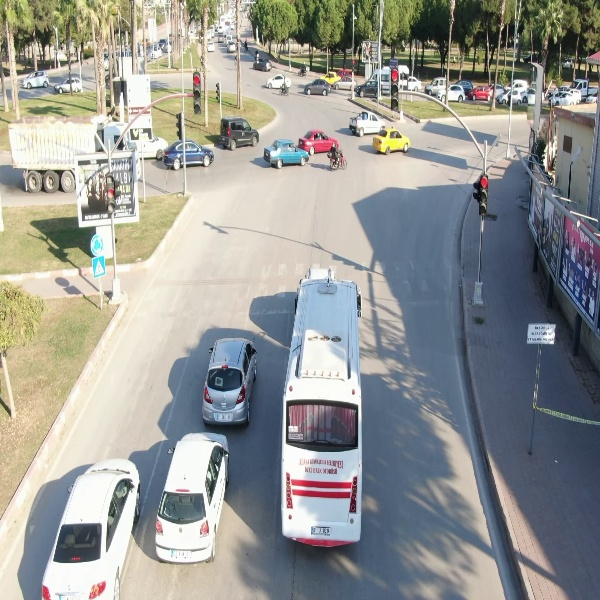car: (152, 429, 232, 565), (198, 335, 258, 428), (160, 137, 214, 172), (219, 115, 262, 152), (263, 137, 311, 169), (372, 125, 412, 154), (52, 74, 84, 97), (21, 68, 50, 92), (303, 77, 333, 98), (436, 83, 466, 104), (355, 79, 386, 99), (468, 83, 493, 103), (262, 74, 291, 90), (251, 57, 274, 73)
